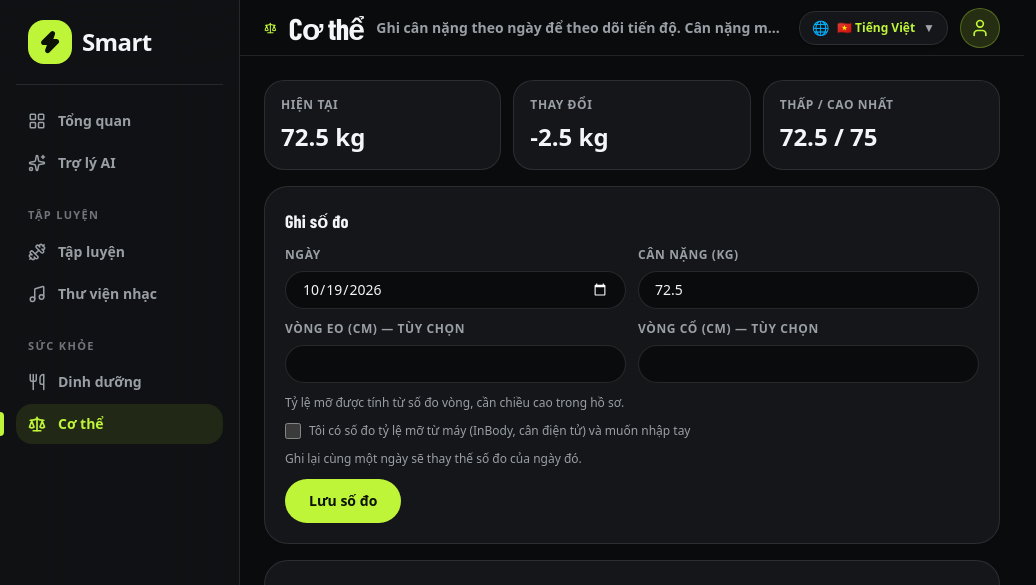
it: Body page: saving › POSTs numbers with the chosen date, then refreshes the history and the profile
Expected: the heading "Cơ thể" is shown, [289,10,364,46]
Replace the text in the number field labelled "Cân nặng (kg)" with "71.8" at coordinates (808, 290), box [638,271,979,309]
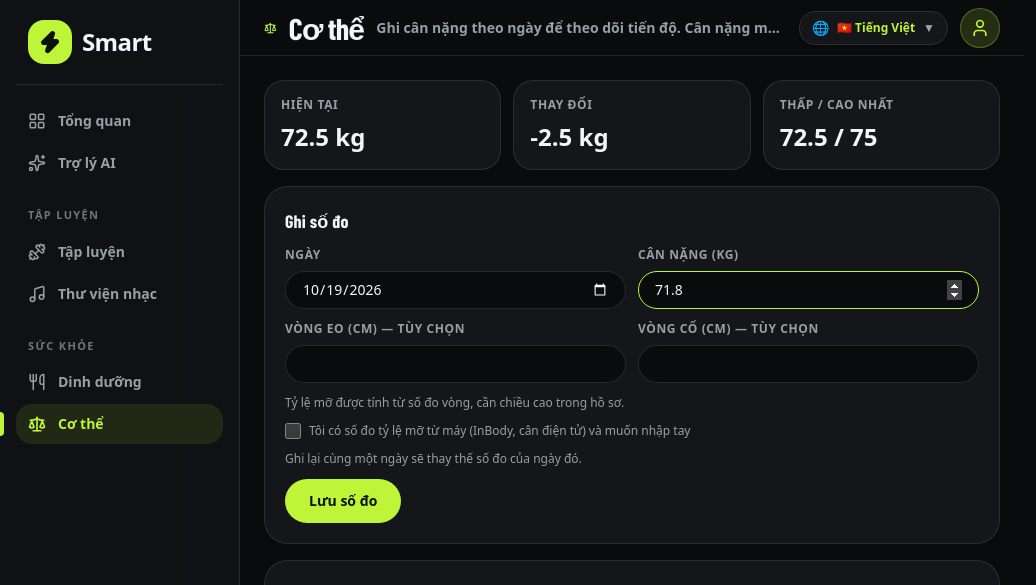
Click the checkbox labelled "số đo tỷ lệ mỡ từ máy" at coordinates (293, 431), box [285,423,301,439]
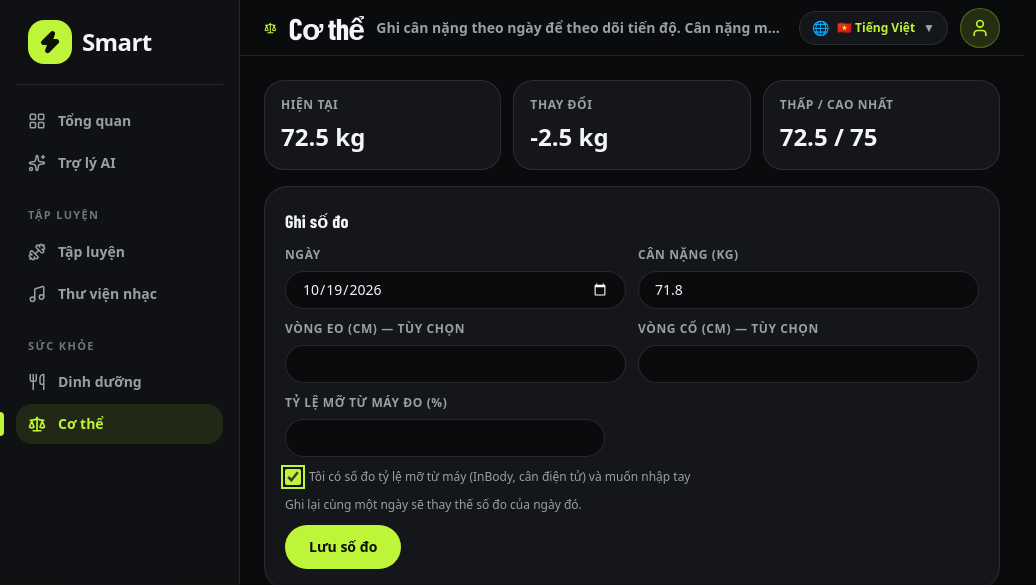
Type "18" into the number field labelled "Tỷ lệ mỡ từ máy đo (%)" at coordinates (445, 438), box [285,419,605,457]
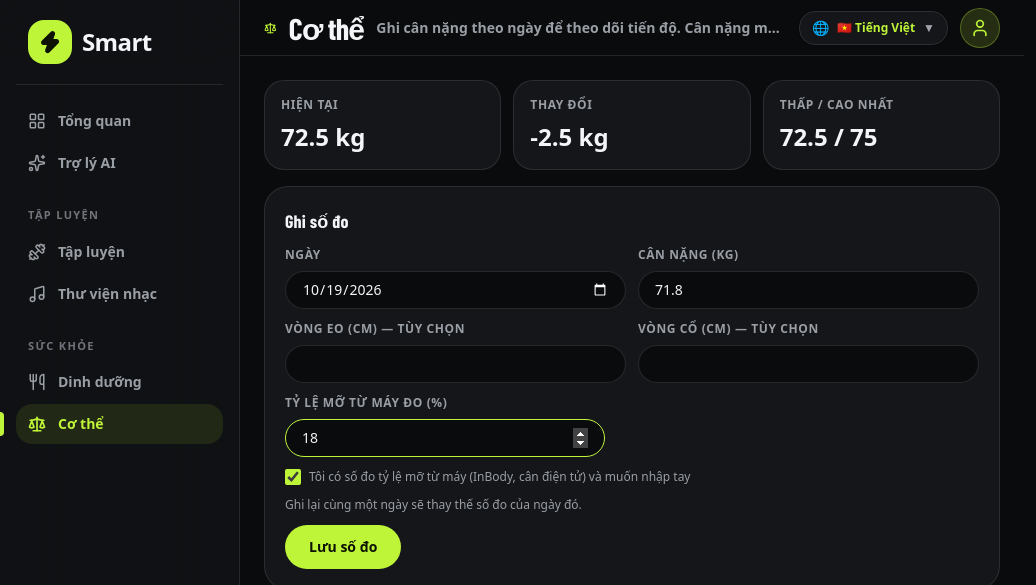
Type "80" into the number field labelled "Vòng eo (cm) — tùy chọn" at coordinates (456, 364), box [285,345,626,383]
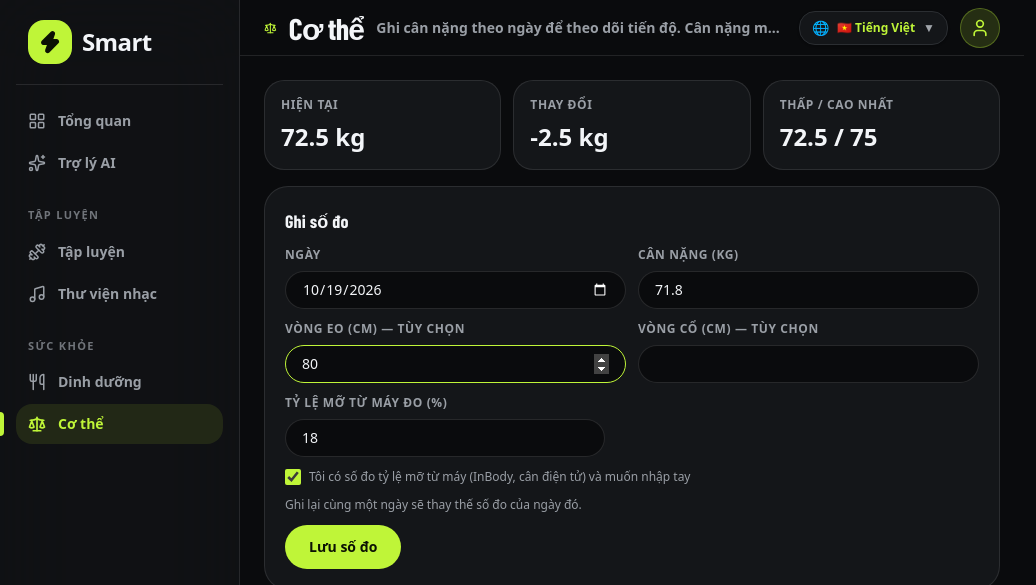
Click the button "Lưu số đo" at coordinates (343, 547), box [285,525,401,569]
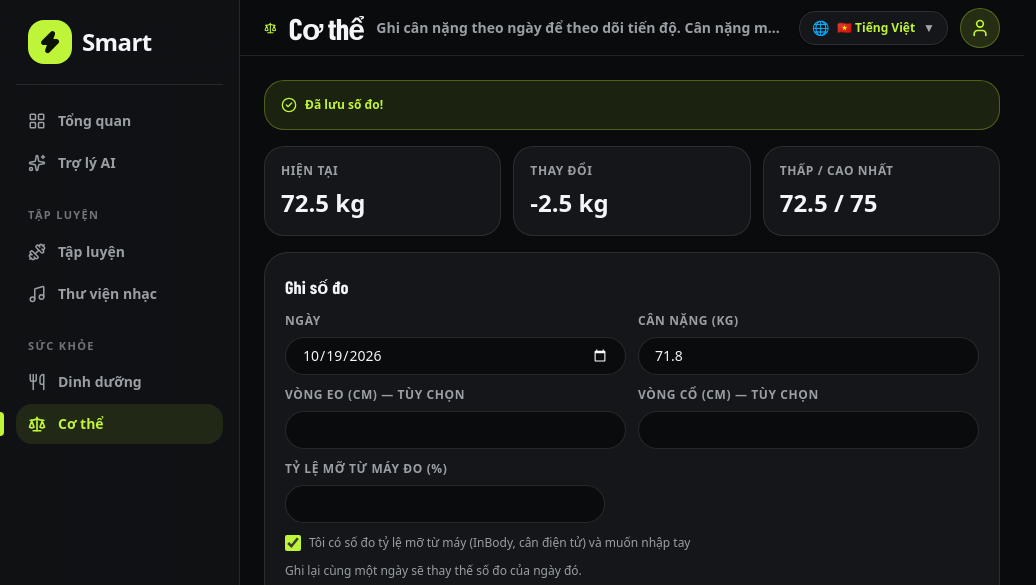
Expected: the message reads "Đã lưu số đo!", [305,96,383,113]
